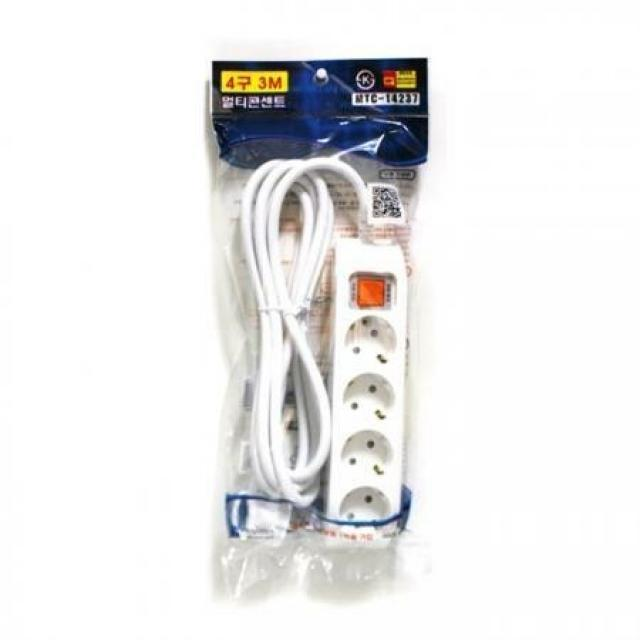typeb: (323, 225, 421, 562)
